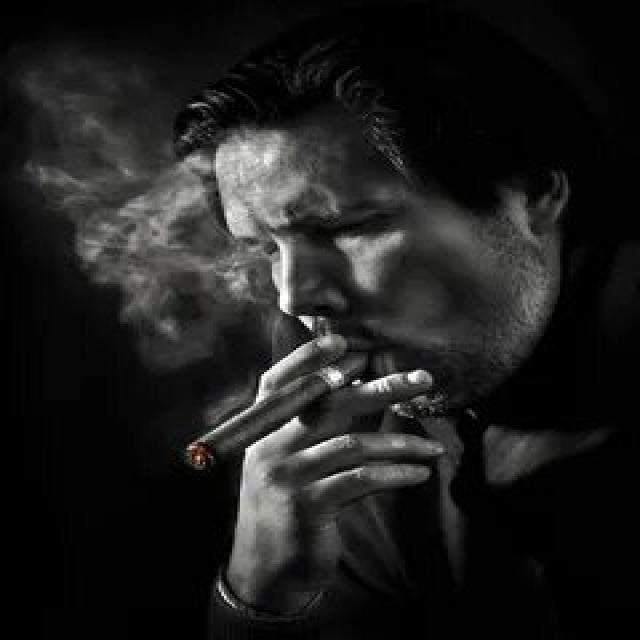smoke: (181, 346, 371, 476)
